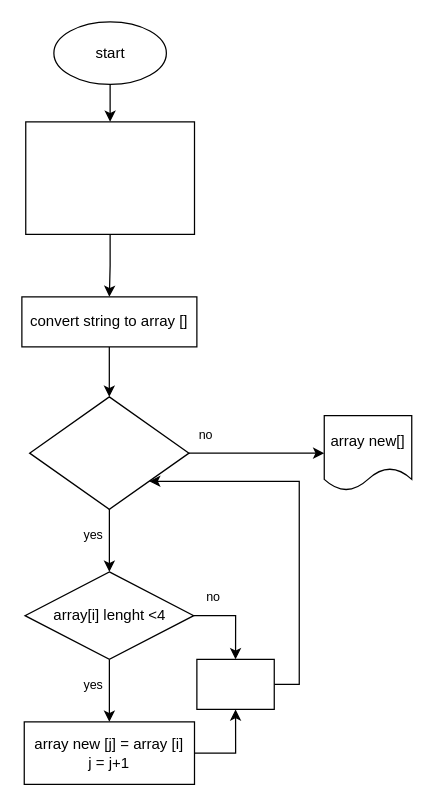
This 434x806 diagram has some shape labels left out. The box of each missing label's shape, as (x1, y1, x2, y2) in pixels:
i < array lenght: (28, 396, 189, 509)
i = i+1: (196, 658, 274, 709)
some input (string) array [] array new [] i = 0 (counter 1) j = 0 (counter 2): (24, 121, 194, 234)
